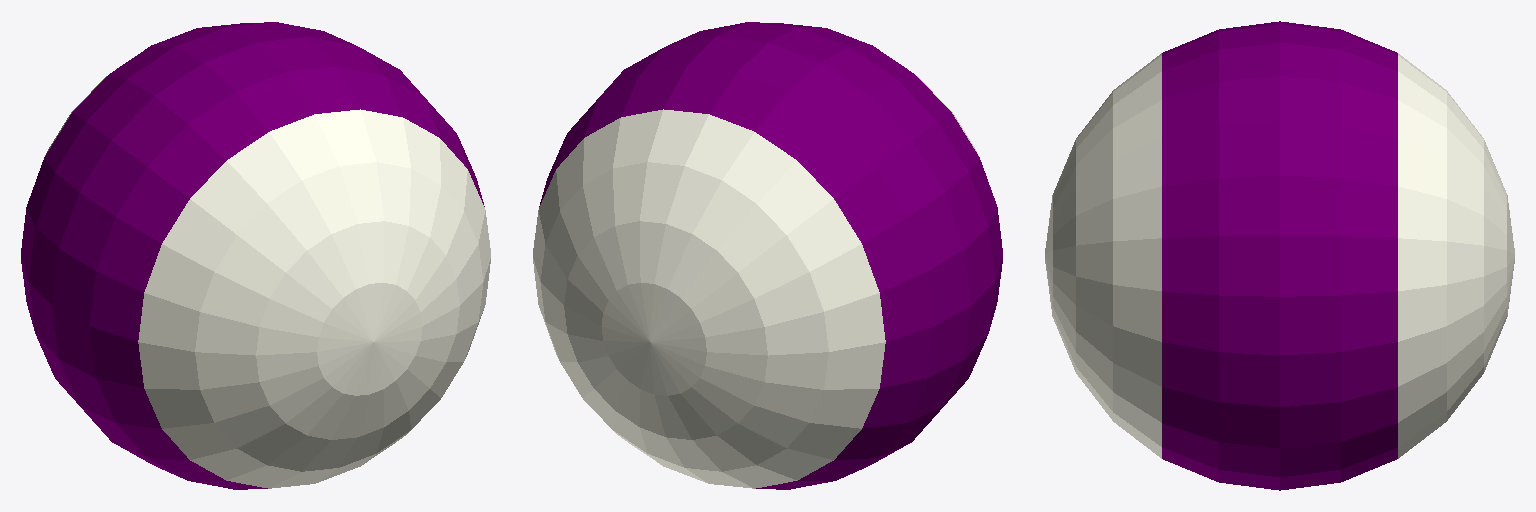
The picture shows the model from 3 angles: view 1: azimuth 30°, elevation 25°; view 2: azimuth 150°, elevation 25°; view 3: azimuth 270°, elevation 25°; orthographic projection.
Parts seen in each view (by area): view 1: Mesh02_1, band1_3, top__12_1_9; view 2: Mesh01_0, band1_3, top__12_1_9; view 3: band1_3, Mesh01_0, Mesh02_1, top__12_1_9.
Boxes of the visible parts, <box> form: Mesh02_1: <box>138,109,490,488</box>; band1_3: <box>21,23,484,488</box>; top__12_1_9: <box>156,22,355,107</box>; Mesh01_0: <box>533,109,885,488</box>; band1_3: <box>539,23,1002,488</box>; top__12_1_9: <box>668,22,867,107</box>; band1_3: <box>1162,21,1397,490</box>; Mesh01_0: <box>1398,53,1514,458</box>; Mesh02_1: <box>1045,53,1161,458</box>; top__12_1_9: <box>1180,22,1379,107</box>.
Size of the model in its own units: 2.25 by 2.25 by 2.25.